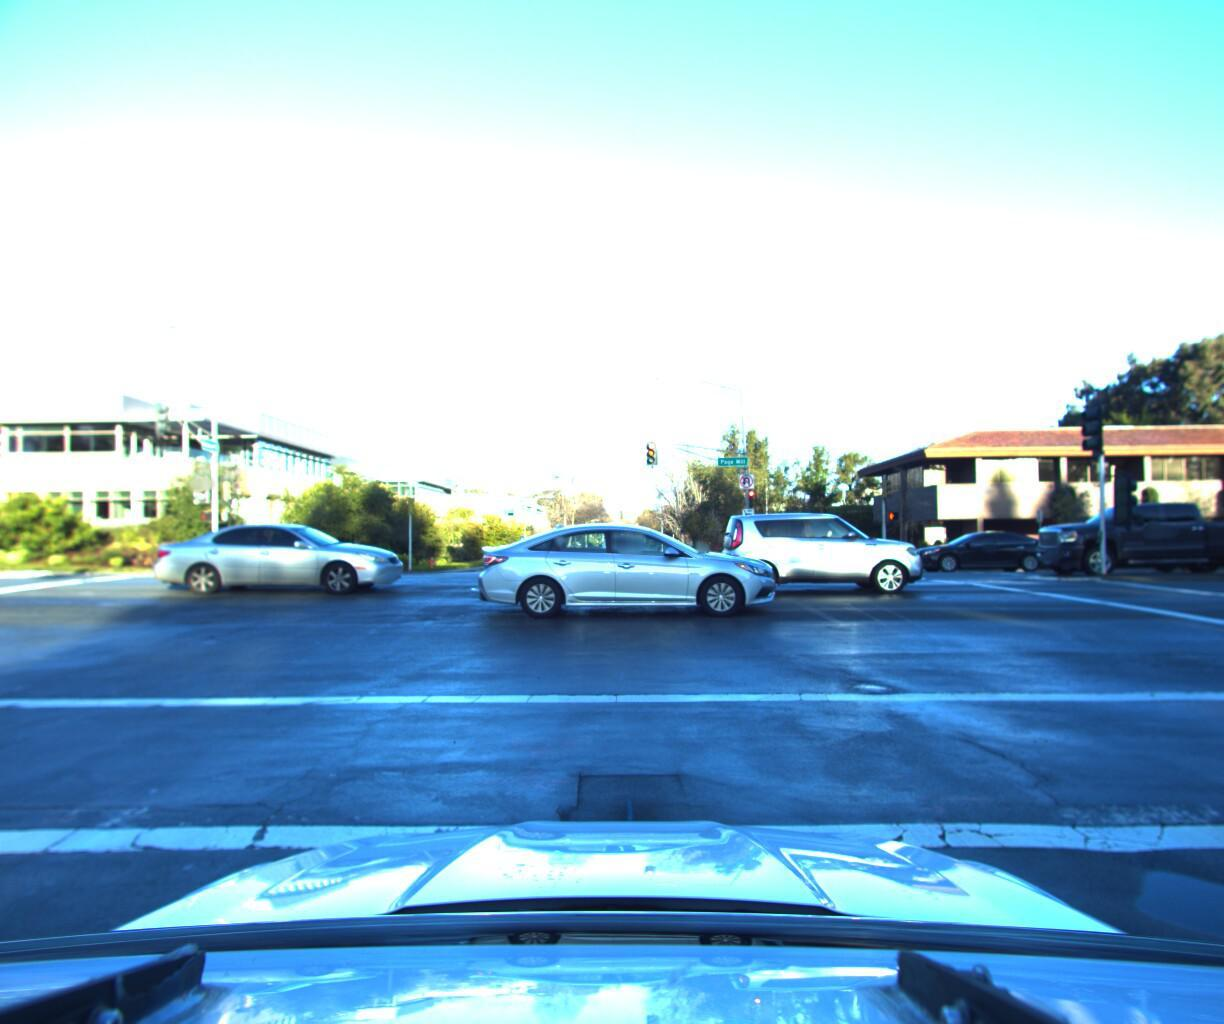car: (475, 515, 789, 621), (155, 511, 421, 594), (715, 505, 932, 591), (1022, 490, 1224, 573), (898, 526, 1057, 573)
